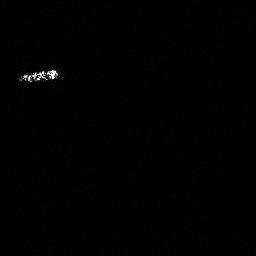ship: (16, 66, 62, 85)
